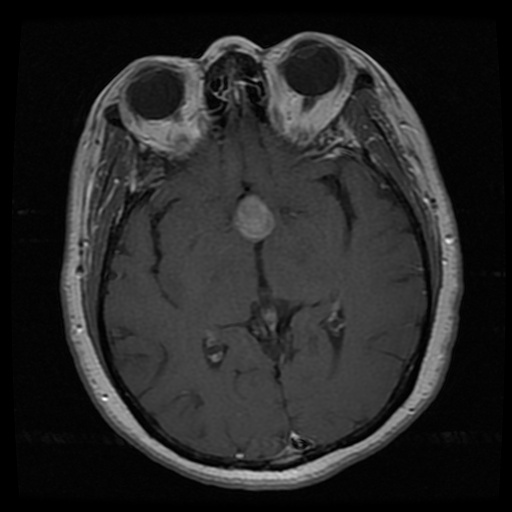pituitary: (235, 195, 271, 240)
